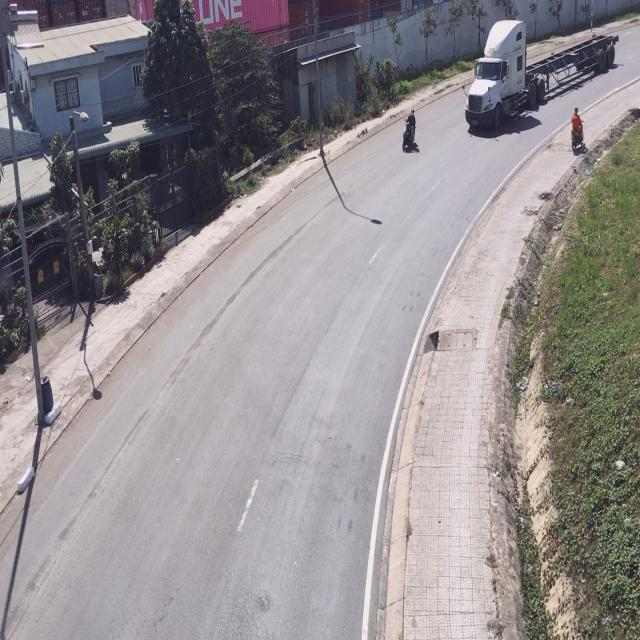motorbike: (400, 108, 418, 154), (570, 109, 586, 153)
truck: (466, 24, 623, 127)
